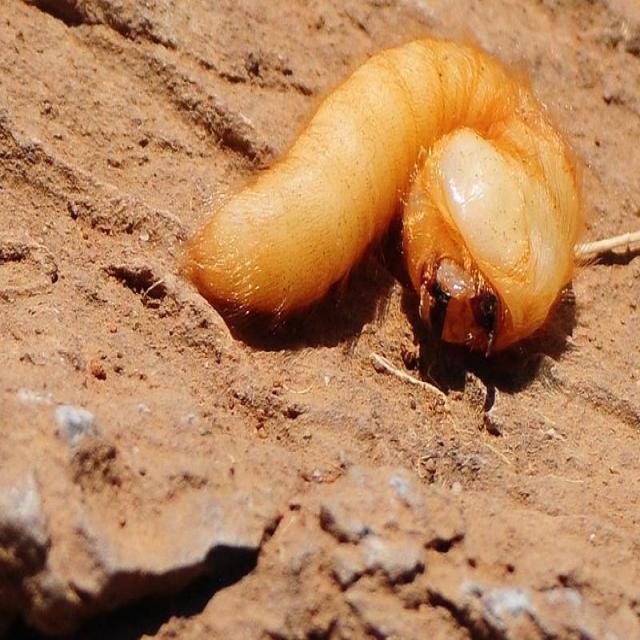grub: (195, 35, 578, 408)
